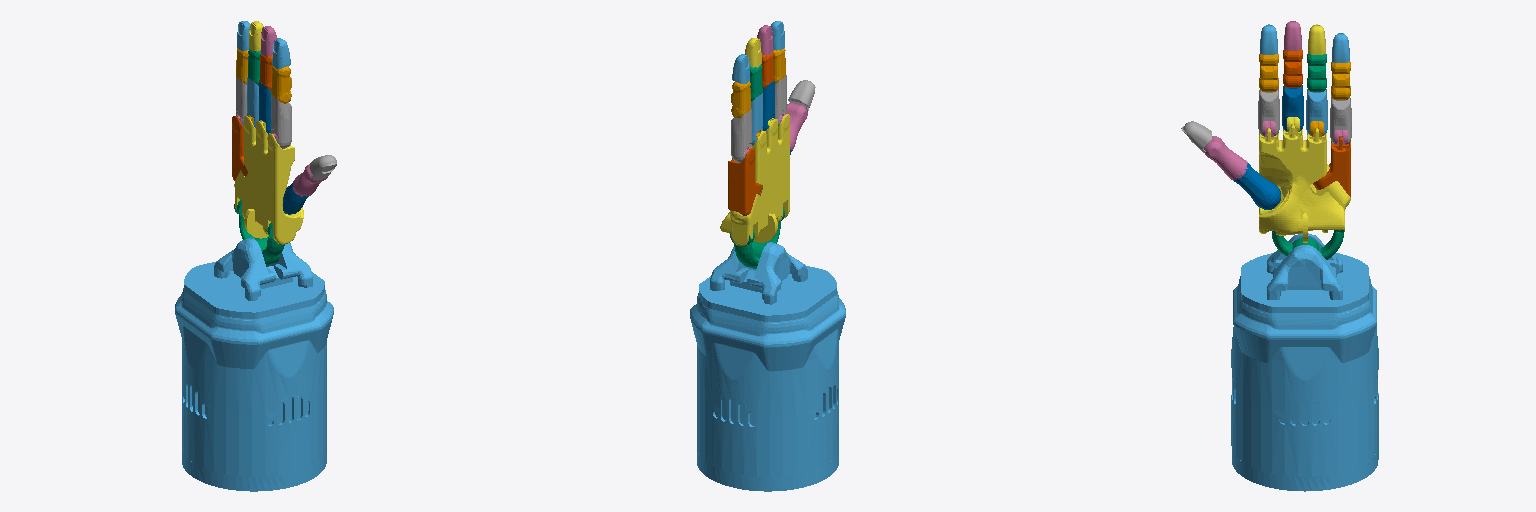
--- What the picture shows (computed from the rendered views, not written in the file) ---
3 views of the same robot in one strip: view 1: azimuth 30°, elevation 25°; view 2: azimuth 150°, elevation 25°; view 3: azimuth 270°, elevation 25° (orthographic).
Model shadow_left with 33 links and 32 joints (24 revolute, 8 fixed), rooted at world, posed all joints at 0.
Links seen in each view (by area): view 1: forearm, palm, ffproximal, wrist, lfmetacarpal, ffmiddle; view 2: forearm, palm, lfmetacarpal, lfproximal, wrist, lfmiddle, thmiddle; view 3: forearm, palm, lfmetacarpal, thproximal, thmiddle, wrist, mfproximal, lfproximal, ffproximal, rfproximal, mfmiddle, rfmiddle (+3 smaller).
Boxes of the visible links, x1,y1,x2,y2 form: forearm: (175, 238, 333, 491); palm: (234, 116, 303, 244); ffproximal: (271, 95, 291, 148); wrist: (234, 199, 284, 264); lfmetacarpal: (232, 116, 247, 180); ffmiddle: (271, 66, 291, 103); forearm: (690, 242, 845, 491); palm: (720, 114, 789, 245); lfmetacarpal: (728, 147, 762, 215); lfproximal: (731, 109, 751, 162); wrist: (730, 207, 784, 268); lfmiddle: (731, 81, 750, 117); thmiddle: (786, 103, 807, 150); forearm: (1231, 233, 1378, 491); palm: (1259, 124, 1350, 242); lfmetacarpal: (1313, 137, 1350, 196); thproximal: (1231, 163, 1280, 209); thmiddle: (1204, 136, 1247, 180); wrist: (1272, 230, 1343, 259); mfproximal: (1282, 85, 1303, 131); lfproximal: (1330, 97, 1351, 143); ffproximal: (1258, 88, 1279, 135); rfproximal: (1306, 89, 1327, 134); mfmiddle: (1283, 50, 1302, 87); rfmiddle: (1307, 54, 1326, 91).
Size in the robot's own frame: 0.1351 by 0.1809 by 0.4479 metres.
23 mesh visuals loaded from 11 distinct referenced files (11 OBJ).

The robot description file, URDF, robot "shadow_left":
<?xml version="1.0" encoding="utf-8"?>
<!--
 Software License Agreement (BSD License)
 Copyright © 2022 belongs to Shadow Robot Company Ltd.
 All rights reserved.
 Redistribution and use in source and binary forms, with or without modification,
 are permitted provided that the following conditions are met:
   1. Redistributions of source code must retain the above copyright notice,
      this list of conditions and the following disclaimer.
   2. Redistributions in binary form must reproduce the above copyright notice,
      this list of conditions and the following disclaimer in the documentation
      and/or other materials provided with the distribution.
   3. Neither the name of Shadow Robot Company Ltd nor the names of its contributors
      may be used to endorse or promote products derived from this software without
      specific prior written permission.
 This software is provided by Shadow Robot Company Ltd "as is" and any express
 or implied warranties, including, but not limited to, the implied warranties of
 merchantability and fitness for a particular purpose are disclaimed. In no event
 shall the copyright holder be liable for any direct, indirect, incidental, special,
 exemplary, or consequential damages (including, but not limited to, procurement of
 substitute goods or services; loss of use, data, or profits; or business interruption)
 however caused and on any theory of liability, whether in contract, strict liability,
 or tort (including negligence or otherwise) arising in any way out of the use of this
 software, even if advised of the possibility of such damage.
-->
<robot name="shadow_left">
  <link name="world"/>
  <joint name="world_joint" type="fixed">
    <parent link="world"/>
    <child link="forearm"/>
    <origin rpy="0.0 0.0 1.57079" xyz="0.0 0.0 0.0"/>
  </joint>
  <link name="forearm">
    <inertial>
      <origin rpy="0 0 0" xyz="0 0 0.09"/>
      <mass value="3.0"/>
      <inertia ixx="0.0138" ixy="0.0" ixz="0.0" iyy="0.0138" iyz="0.0" izz="0.00744"/>
    </inertial>
    <visual>
      <origin rpy="0 0 0" xyz="0 0 0.0"/>
      <geometry name="forearm_visual">
        <mesh filename="meshes/visual/forearm_E3M5.obj" scale="0.001 0.001 0.001"/>
      </geometry>
    </visual>
    <collision>
      <origin rpy="0 0 0" xyz="0 0 0.0"/>
      <geometry name="forearm_collision">
        <mesh filename="meshes/collision/forearm_E3M5.obj" scale="0.001 0.001 0.001"/>
      </geometry>
    </collision>
    <!-- wrist mount -->
    <collision>
      <origin rpy="0 0.785395 0" xyz="0 -0.01 0.165"/>
      <geometry>
        <box size="0.07 0.07 0.07"/>
      </geometry>
    </collision>
  </link>
  <link name="wrist">
    <inertial>
      <origin rpy="0 0 0" xyz="0 0 0.029"/>
      <mass value="0.1"/>
      <inertia ixx="0.000035" ixy="0.0" ixz="0.0" iyy="0.000064" iyz="0.0" izz="0.0000438"/>
    </inertial>
    <visual>
      <origin rpy="0 0 0" xyz="0 0 0"/>
      <geometry name="wrist_visual">
        <mesh filename="meshes/visual/wrist_E3M5.obj" scale="0.001 0.001 0.001"/>
      </geometry>
    </visual>
    <collision>
      <origin rpy="1.5708 1.5708 0" xyz="0 0 0"/>
      <geometry name="wrist_collision_geom">
        <cylinder length="0.030" radius="0.0135"/>
      </geometry>
    </collision>
    <collision>
      <origin rpy="0 1.5708 0" xyz="0.026 0 0.034"/>
      <geometry>
        <cylinder length="0.010" radius="0.011"/>
      </geometry>
    </collision>
    <collision>
      <origin rpy="0 1.5708 0" xyz="-0.031 0 0.034"/>
      <geometry>
        <cylinder length="0.010" radius="0.011"/>
      </geometry>
    </collision>
    <collision>
      <origin rpy="0 -0.7854 0" xyz="0.021 0 0.011"/>
      <geometry>
        <box size="0.027 0.018 0.010"/>
      </geometry>
    </collision>
    <collision>
      <origin rpy="0 0.7854 0" xyz="-0.026 0 0.010"/>
      <geometry>
        <box size="0.027 0.018 0.010"/>
      </geometry>
    </collision>
  </link>
  <joint name="WRJ2" type="revolute">
    <parent link="forearm"/>
    <child link="wrist"/>
    <origin rpy="0 0 0" xyz="0 -0.010 0.21301"/>
    <axis xyz="0 -1 0"/>
    <limit effort="10" lower="-0.523598775598" upper="0.174532925199" velocity="2.0"/>
    <dynamics damping="0.1"/>
  </joint>
  <link name="palm">
    <inertial>
      <origin rpy="0 0 0" xyz="0 0 0.035"/>
      <mass value="0.3"/>
      <inertia ixx="0.0003581" ixy="0.0" ixz="0.0" iyy="0.0005287" iyz="0.0" izz="0.000191"/>
    </inertial>
    <visual>
      <origin rpy="0 0 0" xyz="0 0 0"/>
      <geometry name="palm_visual">
        <mesh filename="meshes/visual/palm_E3M5_left.obj" scale="0.001 0.001 0.001"/>
      </geometry>
    </visual>
    <collision>
      <origin rpy="0 0 0" xyz="-0.011 0.0085 0.042"/>
      <geometry name="palm_collision_geom">
        <box size="0.062 0.007 0.090"/>
      </geometry>
    </collision>
    <collision>
      <origin rpy="0 0 0" xyz="0.002 -0.0035 0.042"/>
      <geometry>
        <box size="0.036 0.017 0.090"/>
      </geometry>
    </collision>
    <!-- palm complement below first finger -->
    <collision>
      <origin rpy="0 0 0" xyz="-0.029 -0.0035 0.082"/>
      <geometry>
        <box size="0.026 0.017 0.010"/>
      </geometry>
    </collision>
    <collision>
      <origin rpy="0.2 0 -0.25" xyz="-0.0265 -0.001 0.070"/>
      <geometry>
        <box size="0.026 0.014 0.018"/>
      </geometry>
    </collision>
    <!-- thumb pulp side -->
    <collision>
      <origin rpy="0 0 0" xyz="-0.0315 -0.0085 0.001"/>
      <geometry>
        <box size="0.021 0.027 0.016"/>
      </geometry>
    </collision>
    <!-- thumb pulp central -->
    <collision>
      <origin rpy="0 0 0.48" xyz="-0.0125 -0.015 0.009"/>
      <geometry>
        <box size="0.022 0.005 0.032"/>
      </geometry>
    </collision>
    <!-- above middle finger-->
    <collision>
      <origin rpy="0 0 0" xyz="-0.011 0 0.089"/>
      <geometry>
        <box size="0.018 0.024 0.004"/>
      </geometry>
    </collision>
    <!-- metacarpal side-->
    <collision>
      <origin rpy="0 0 0" xyz="0.03 0 0.009"/>
      <geometry>
        <box size="0.020 0.024 0.032"/>
      </geometry>
    </collision>
  </link>
  <joint name="ee_fixed_joint" type="fixed">
    <parent link="palm"/>
    <child link="ee_link"/>
    <origin rpy="0.0 0.0 0.0" xyz="0.0 0.0 0.00"/>
  </joint>
  <link name="ee_link"/>
  <joint name="WRJ1" type="revolute">
    <parent link="wrist"/>
    <child link="palm"/>
    <origin rpy="0 0 0" xyz="0 0 0.034"/>
    <axis xyz="1 0 0"/>
    <limit effort="30" lower="-0.698131700798" upper="0.488692190558" velocity="2.0"/>
    <dynamics damping="0.1"/>
  </joint>
  <link name="imu"/>
  <joint name="palm_to_imu" type="fixed">
    <parent link="palm"/>
    <child link="imu"/>
    <origin rpy="-1.5707963 3.141592 0.0" xyz="0.01785 0.00765 0.049125"/>
  </joint>
  <link name="ffknuckle">
    <inertial>
      <origin rpy="0 0 0" xyz="0 0 0"/>
      <mass value="0.008"/>
      <inertia ixx="0.00000026" ixy="0.0" ixz="0.0" iyy="0.00000026" iyz="0.0" izz="0.00000032"/>
    </inertial>
    <visual>
      <origin rpy="0 0 0" xyz="0 0 0.0005"/>
      <geometry name="ffknuckle_visual">
        <mesh filename="meshes/visual/f_knuckle_E3M5.obj" scale="0.001 0.001 0.001"/>
      </geometry>
    </visual>
    <collision>
      <origin rpy="0 1.5708 0" xyz="0 0 0"/>
      <geometry name="lh_ffknuckle_collision_geom">
        <mesh filename="meshes/collision/f_knuckle_E3M5.obj"/>
      </geometry>
    </collision>
  </link>
  <joint name="FFJ4" type="revolute">
    <parent link="palm"/>
    <child link="ffknuckle"/>
    <origin rpy="0 0 0" xyz="-0.033 0 0.095"/>
    <axis xyz="0 1 0"/>
    <limit effort="2" lower="-0.349065850399" upper="0.349065850399" velocity="2.0"/>
    <dynamics damping="0.1"/>
  </joint>
  <link name="ffproximal">
    <inertial>
      <mass value="0.030"/>
      <origin xyz="0 0 0.0225"/>
      <inertia ixx="0.0000098" ixy="0.0" ixz="0.0" iyy="0.00001" iyz="0.0" izz="0.0000018"/>
    </inertial>
    <visual>
      <origin rpy="0 0 0" xyz="0 0 0"/>
      <geometry name="ffproximal_visual">
        <mesh filename="meshes/visual/f_proximal_E3M5.obj" scale="0.001 0.001 0.001"/>
      </geometry>
    </visual>
    <collision>
      <origin rpy="0 0 0" xyz="0 0 0.025"/>
      <geometry name="ffproximal_collision_geom">
        <cylinder length="0.040" radius="0.007"/>
      </geometry>
    </collision>
  </link>
  <joint name="FFJ3" type="revolute">
    <parent link="ffknuckle"/>
    <child link="ffproximal"/>
    <origin rpy="0 0 0" xyz="0 0 0"/>
    <axis xyz="1 0 0"/>
    <limit effort="2" lower="-0.261799387799" upper="1.57079632679" velocity="2.0"/>
    <dynamics damping="0.1"/>
  </joint>
  <link name="ffmiddle">
    <inertial>
      <origin rpy="0 0 0" xyz="0 0 0.0125"/>
      <mass value="0.017"/>
      <inertia ixx="0.0000026" ixy="0.0" ixz="0.0" iyy="0.0000027" iyz="0.0" izz="0.00000087"/>
    </inertial>
    <visual>
      <origin rpy="0 0 0" xyz="0 0 0"/>
      <geometry name="ffmiddle_visual">
        <mesh filename="meshes/visual/f_middle_E3M5.obj" scale="0.001 0.001 0.001"/>
      </geometry>
    </visual>
    <collision>
      <origin rpy="0 0 0" xyz="0 0 0.0125"/>
      <geometry name="ffmiddle_collision_geom">
        <cylinder length="0.025" radius="0.007"/>
      </geometry>
    </collision>
    <collision>
      <origin rpy="0 0 0" xyz="0 0 0.0"/>
      <geometry>
        <sphere radius="0.007"/>
      </geometry>
    </collision>
    <collision>
      <origin rpy="0 0 0" xyz="0 0 0.025"/>
      <geometry>
        <sphere radius="0.007"/>
      </geometry>
    </collision>
  </link>
  <joint name="FFJ2" type="revolute">
    <parent link="ffproximal"/>
    <child link="ffmiddle"/>
    <origin rpy="0 0 0" xyz="0 0 0.045"/>
    <axis xyz="1 0 0"/>
    <limit effort="2" lower="0" upper="1.57079632679" velocity="2.0"/>
    <dynamics damping="0.1"/>
  </joint>
  <link name="ffdistal">
    <!--    inertial and mass is enlarged by 10 times to fix the position drive issue in Physx simulation, used in IsaacGym and SAPIEN-->
    <inertial>
      <mass value="0.12"/>
      <origin xyz="0 0 0.012"/>
      <inertia ixx="0.0000094" ixy="0.0" ixz="0.0" iyy="0.000011" iyz="0.0" izz="0.0000053"/>
    </inertial>
    <visual>
      <origin rpy="0 0 0" xyz="0 0 0"/>
      <geometry name="ffdistal_visual">
        <mesh filename="meshes/visual/f_distal_pst.obj" scale="0.001 0.001 0.001"/>
      </geometry>
    </visual>
    <collision>
      <origin rpy="0 0 0" xyz="0 0 0"/>
      <geometry name="ffdistal_collision_geom">
        <mesh filename="meshes/collision/f_distal_pst.obj" scale="0.001 0.001 0.001"/>
      </geometry>
    </collision>
  </link>
  <joint name="FFJ1" type="revolute">
    <parent link="ffmiddle"/>
    <child link="ffdistal"/>
    <origin rpy="0 0 0" xyz="0 0 0.025"/>
    <axis xyz="1 0 0"/>
    <!-- standard distal joint -->
    <limit effort="2" lower="0" upper="1.57079632679" velocity="2.0"/>
    <dynamics damping="0.1"/>
  </joint>
  <link name="fftip">
    <inertial>
      <mass value="0.001"/>
      <inertia ixx="0.0" ixy="0.0" ixz="0.0" iyy="0.0" iyz="0.0" izz="0.0"/>
    </inertial>
  </link>
  <joint name="FFtip" type="fixed">
    <parent link="ffdistal"/>
    <child link="fftip"/>
    <origin rpy="0 0 0" xyz="0 0 0.026"/>
  </joint>
  <link name="mfknuckle">
    <inertial>
      <origin rpy="0 0 0" xyz="0 0 0"/>
      <mass value="0.008"/>
      <inertia ixx="0.00000026" ixy="0.0" ixz="0.0" iyy="0.00000026" iyz="0.0" izz="0.00000032"/>
    </inertial>
    <visual>
      <origin rpy="0 0 0" xyz="0 0 0.0005"/>
      <geometry name="mfknuckle_visual">
        <mesh filename="meshes/visual/f_knuckle_E3M5.obj" scale="0.001 0.001 0.001"/>
      </geometry>
    </visual>
    <collision>
      <geometry name="ffknuckle_visual">
        <mesh filename="meshes/collision/f_knuckle_E3M5.obj"/>
      </geometry>
    </collision>
  </link>
  <joint name="MFJ4" type="revolute">
    <parent link="palm"/>
    <child link="mfknuckle"/>
    <!--<origin xyz="0.033 0 0.095" rpy="0 0 0" />-->
    <origin rpy="0 0 0" xyz="-0.011 0 0.099"/>
    <axis xyz="0 1 0"/>
    <limit effort="2" lower="-0.349065850399" upper="0.349065850399" velocity="2.0"/>
    <dynamics damping="0.1"/>
  </joint>
  <link name="mfproximal">
    <inertial>
      <mass value="0.030"/>
      <origin xyz="0 0 0.0225"/>
      <inertia ixx="0.0000098" ixy="0.0" ixz="0.0" iyy="0.00001" iyz="0.0" izz="0.0000018"/>
    </inertial>
    <visual>
      <origin rpy="0 0 0" xyz="0 0 0"/>
      <geometry name="mfproximal_visual">
        <mesh filename="meshes/visual/f_proximal_E3M5.obj" scale="0.001 0.001 0.001"/>
      </geometry>
    </visual>
    <collision>
      <origin rpy="0 0 0" xyz="0 0 0.025"/>
      <geometry name="mfproximal_collision_geom">
        <cylinder length="0.040" radius="0.007"/>
      </geometry>
    </collision>
  </link>
  <joint name="MFJ3" type="revolute">
    <parent link="mfknuckle"/>
    <child link="mfproximal"/>
    <origin rpy="0 0 0" xyz="0 0 0"/>
    <axis xyz="1 0 0"/>
    <limit effort="2" lower="-0.261799387799" upper="1.57079632679" velocity="2.0"/>
    <dynamics damping="0.1"/>
  </joint>
  <link name="mfmiddle">
    <inertial>
      <origin rpy="0 0 0" xyz="0 0 0.0125"/>
      <mass value="0.017"/>
      <inertia ixx="0.0000026" ixy="0.0" ixz="0.0" iyy="0.0000027" iyz="0.0" izz="0.00000087"/>
    </inertial>
    <visual>
      <origin rpy="0 0 0" xyz="0 0 0"/>
      <geometry name="mfmiddle_visual">
        <mesh filename="meshes/visual/f_middle_E3M5.obj" scale="0.001 0.001 0.001"/>
      </geometry>
    </visual>
    <collision>
      <origin rpy="0 0 0" xyz="0 0 0.0125"/>
      <geometry name="mfmiddle_collision_geom">
        <cylinder length="0.025" radius="0.007"/>
      </geometry>
    </collision>
    <collision>
      <origin rpy="0 0 0" xyz="0 0 0.0"/>
      <geometry>
        <sphere radius="0.007"/>
      </geometry>
    </collision>
    <collision>
      <origin rpy="0 0 0" xyz="0 0 0.025"/>
      <geometry>
        <sphere radius="0.007"/>
      </geometry>
    </collision>
  </link>
  <joint name="MFJ2" type="revolute">
    <parent link="mfproximal"/>
    <child link="mfmiddle"/>
    <origin rpy="0 0 0" xyz="0 0 0.045"/>
    <axis xyz="1 0 0"/>
    <limit effort="2" lower="0" upper="1.57079632679" velocity="2.0"/>
    <dynamics damping="0.1"/>
  </joint>
  <link name="mfdistal">
    <!--    inertial and mass is enlarged by 10 times to fix the position drive issue in Physx simulation, used in IsaacGym and SAPIEN-->
    <inertial>
      <mass value="0.12"/>
      <origin xyz="0 0 0.012"/>
      <inertia ixx="0.0000094" ixy="0.0" ixz="0.0" iyy="0.000011" iyz="0.0" izz="0.0000053"/>
    </inertial>
    <visual>
      <origin rpy="0 0 0" xyz="0 0 0"/>
      <geometry name="mfdistal_visual">
        <mesh filename="meshes/visual/f_distal_pst.obj" scale="0.001 0.001 0.001"/>
      </geometry>
    </visual>
    <collision>
      <origin rpy="0 0 0" xyz="0 0 0"/>
      <geometry name="mfdistal_collision_geom">
        <mesh filename="meshes/collision/f_distal_pst.obj" scale="0.001 0.001 0.001"/>
      </geometry>
    </collision>
  </link>
  <joint name="MFJ1" type="revolute">
    <parent link="mfmiddle"/>
    <child link="mfdistal"/>
    <origin rpy="0 0 0" xyz="0 0 0.025"/>
    <axis xyz="1 0 0"/>
    <!-- standard distal joint -->
    <limit effort="2" lower="0" upper="1.57079632679" velocity="2.0"/>
    <dynamics damping="0.1"/>
  </joint>
  <link name="mftip">
    <inertial>
      <mass value="0.001"/>
      <inertia ixx="0.0" ixy="0.0" ixz="0.0" iyy="0.0" iyz="0.0" izz="0.0"/>
    </inertial>
  </link>
  <joint name="MFtip" type="fixed">
    <parent link="mfdistal"/>
    <child link="mftip"/>
    <origin rpy="0 0 0" xyz="0 0 0.026"/>
  </joint>
  <link name="rfknuckle">
    <inertial>
      <origin rpy="0 0 0" xyz="0 0 0"/>
      <mass value="0.008"/>
      <inertia ixx="0.00000026" ixy="0.0" ixz="0.0" iyy="0.00000026" iyz="0.0" izz="0.00000032"/>
    </inertial>
    <visual>
      <origin rpy="0 0 0" xyz="0 0 0.0005"/>
      <geometry name="rfknuckle_visual">
        <mesh filename="meshes/visual/f_knuckle_E3M5.obj" scale="0.001 0.001 0.001"/>
      </geometry>
    </visual>
    <collision>
      <geometry name="ffknuckle_visual">
        <mesh filename="meshes/collision/f_knuckle_E3M5.obj"/>
      </geometry>
    </collision>
  </link>
  <joint name="RFJ4" type="revolute">
    <parent link="palm"/>
    <child link="rfknuckle"/>
    <!--<origin xyz="0.033 0 0.095" rpy="0 0 0" />-->
    <origin rpy="0 0 0" xyz="0.011 0 0.095"/>
    <axis xyz="0 -1 0"/>
    <limit effort="2" lower="-0.349065850399" upper="0.349065850399" velocity="2.0"/>
    <dynamics damping="0.1"/>
  </joint>
  <link name="rfproximal">
    <inertial>
      <mass value="0.030"/>
      <origin xyz="0 0 0.0225"/>
      <inertia ixx="0.0000098" ixy="0.0" ixz="0.0" iyy="0.00001" iyz="0.0" izz="0.0000018"/>
    </inertial>
    <visual>
      <origin rpy="0 0 0" xyz="0 0 0"/>
      <geometry name="rfproximal_visual">
        <mesh filename="meshes/visual/f_proximal_E3M5.obj" scale="0.001 0.001 0.001"/>
      </geometry>
    </visual>
    <collision>
      <origin rpy="0 0 0" xyz="0 0 0.025"/>
      <geometry name="rfproximal_collision_geom">
        <cylinder length="0.040" radius="0.007"/>
      </geometry>
    </collision>
  </link>
  <joint name="RFJ3" type="revolute">
    <parent link="rfknuckle"/>
    <child link="rfproximal"/>
    <origin rpy="0 0 0" xyz="0 0 0"/>
    <axis xyz="1 0 0"/>
    <limit effort="2" lower="-0.261799387799" upper="1.57079632679" velocity="2.0"/>
    <dynamics damping="0.1"/>
  </joint>
  <link name="rfmiddle">
    <inertial>
      <origin rpy="0 0 0" xyz="0 0 0.0125"/>
      <mass value="0.017"/>
      <inertia ixx="0.0000026" ixy="0.0" ixz="0.0" iyy="0.0000027" iyz="0.0" izz="0.00000087"/>
    </inertial>
    <visual>
      <origin rpy="0 0 0" xyz="0 0 0"/>
      <geometry name="rfmiddle_visual">
        <mesh filename="meshes/visual/f_middle_E3M5.obj" scale="0.001 0.001 0.001"/>
      </geometry>
    </visual>
    <collision>
      <origin rpy="0 0 0" xyz="0 0 0.0125"/>
      <geometry name="rfmiddle_collision_geom">
        <cylinder length="0.025" radius="0.007"/>
      </geometry>
    </collision>
    <collision>
      <origin rpy="0 0 0" xyz="0 0 0.0"/>
      <geometry>
        <sphere radius="0.007"/>
      </geometry>
    </collision>
    <collision>
      <origin rpy="0 0 0" xyz="0 0 0.025"/>
      <geometry>
        <sphere radius="0.007"/>
      </geometry>
    </collision>
  </link>
  <joint name="RFJ2" type="revolute">
    <parent link="rfproximal"/>
    <child link="rfmiddle"/>
    <origin rpy="0 0 0" xyz="0 0 0.045"/>
    <axis xyz="1 0 0"/>
    <limit effort="2" lower="0" upper="1.57079632679" velocity="2.0"/>
    <dynamics damping="0.1"/>
  </joint>
  <link name="rfdistal">
    <!--    inertial and mass is enlarged by 10 times to fix the position drive issue in Physx simulation, used in IsaacGym and SAPIEN-->
    <inertial>
      <mass value="0.12"/>
      <origin xyz="0 0 0.012"/>
      <inertia ixx="0.0000094" ixy="0.0" ixz="0.0" iyy="0.000011" iyz="0.0" izz="0.0000053"/>
    </inertial>
    <visual>
      <origin rpy="0 0 0" xyz="0 0 0"/>
      <geometry name="rfdistal_visual">
        <mesh filename="meshes/visual/f_distal_pst.obj" scale="0.001 0.001 0.001"/>
      </geometry>
    </visual>
    <collision>
      <origin rpy="0 0 0" xyz="0 0 0"/>
      <geometry name="rfdistal_collision_geom">
        <mesh filename="meshes/collision/f_distal_pst.obj" scale="0.001 0.001 0.001"/>
      </geometry>
    </collision>
  </link>
  <joint name="RFJ1" type="revolute">
    <parent link="rfmiddle"/>
    <child link="rfdistal"/>
    <origin rpy="0 0 0" xyz="0 0 0.025"/>
    <axis xyz="1 0 0"/>
    <!-- standard distal joint -->
    <limit effort="2" lower="0" upper="1.57079632679" velocity="2.0"/>
    <dynamics damping="0.1"/>
  </joint>
  <link name="rftip">
    <inertial>
      <mass value="0.001"/>
      <inertia ixx="0.0" ixy="0.0" ixz="0.0" iyy="0.0" iyz="0.0" izz="0.0"/>
    </inertial>
  </link>
  <joint name="RFtip" type="fixed">
    <parent link="rfdistal"/>
    <child link="rftip"/>
    <origin rpy="0 0 0" xyz="0 0 0.026"/>
  </joint>
  <link name="lfmetacarpal">
    <inertial>
      <origin rpy="0 0.9599 0" xyz="0.0317486764706 0 0.0223529411765"/>
      <mass value="0.030"/>
      <inertia ixx="0.0000145" ixy="0.0" ixz="0.0" iyy="0.00001638" iyz="0.0" izz="0.000004272"/>
    </inertial>
    <visual>
      <origin rpy="0 -0.9599 0" xyz="0 0 0"/>
      <geometry name="lfmetacarpal_visual">
        <mesh filename="meshes/visual/lf_metacarpal_E3M5_left.obj" scale="0.001 0.001 0.001"/>
      </geometry>
    </visual>
    <collision>
      <origin rpy="0 -0.9599 0" xyz="-0.026986375 0 0.019"/>
      <geometry name="lfmetacarpal_collision_geom">
        <box size="0.018 0.024 0.040"/>
      </geometry>
    </collision>
  </link>
  <joint name="LFJ5" type="revolute">
    <parent link="palm"/>
    <child link="lfmetacarpal"/>
    <origin rpy="0 0.9599 0" xyz="0.033 0 0.02071"/>
    <axis xyz="1 0 0"/>
    <limit effort="2" lower="0" upper="0.785398163397" velocity="2.0"/>
    <dynamics damping="0.1"/>
  </joint>
  <link name="lfknuckle">
    <inertial>
      <origin rpy="0 0 0" xyz="0 0 0"/>
      <mass value="0.008"/>
      <inertia ixx="0.00000026" ixy="0.0" ixz="0.0" iyy="0.00000026" iyz="0.0" izz="0.00000032"/>
    </inertial>
    <visual>
      <origin rpy="0 0 0" xyz="0 0 0.0005"/>
      <geometry name="lfknuckle_visual">
        <mesh filename="meshes/visual/f_knuckle_E3M5.obj" scale="0.001 0.001 0.001"/>
      </geometry>
    </visual>
    <collision>
      <geometry name="ffknuckle_visual">
        <mesh filename="meshes/collision/f_knuckle_E3M5.obj"/>
      </geometry>
    </collision>
  </link>
  <joint name="LFJ4" type="revolute">
    <parent link="lfmetacarpal"/>
    <child link="lfknuckle"/>
    <!--<origin xyz="0.033 0 0.095" rpy="0 0 0" />-->
    <origin rpy="0 -0.9599 0" xyz="-0.05397275 0 0.03779463"/>
    <axis xyz="0 -1 0"/>
    <limit effort="2" lower="-0.349065850399" upper="0.349065850399" velocity="2.0"/>
    <dynamics damping="0.1"/>
  </joint>
  <link name="lfproximal">
    <inertial>
      <mass value="0.030"/>
      <origin xyz="0 0 0.0225"/>
      <inertia ixx="0.0000098" ixy="0.0" ixz="0.0" iyy="0.00001" iyz="0.0" izz="0.0000018"/>
    </inertial>
    <visual>
      <origin rpy="0 0 0" xyz="0 0 0"/>
      <geometry name="lfproximal_visual">
        <mesh filename="meshes/visual/f_proximal_E3M5.obj" scale="0.001 0.001 0.001"/>
      </geometry>
    </visual>
    <collision>
      <origin rpy="0 0 0" xyz="0 0 0.025"/>
      <geometry name="lfproximal_collision_geom">
        <cylinder length="0.040" radius="0.007"/>
      </geometry>
    </collision>
  </link>
  <joint name="LFJ3" type="revolute">
    <parent link="lfknuckle"/>
    <child link="lfproximal"/>
    <origin rpy="0 0 0" xyz="0 0 0"/>
    <axis xyz="1 0 0"/>
    <limit effort="2" lower="-0.261799387799" upper="1.57079632679" velocity="2.0"/>
    <dynamics damping="0.1"/>
  </joint>
  <link name="lfmiddle">
    <inertial>
      <origin rpy="0 0 0" xyz="0 0 0.0125"/>
      <mass value="0.017"/>
      <inertia ixx="0.0000026" ixy="0.0" ixz="0.0" iyy="0.0000027" iyz="0.0" izz="0.00000087"/>
    </inertial>
    <visual>
      <origin rpy="0 0 0" xyz="0 0 0"/>
      <geometry name="lfmiddle_visual">
        <mesh filename="meshes/visual/f_middle_E3M5.obj" scale="0.001 0.001 0.001"/>
      </geometry>
    </visual>
    <collision>
      <origin rpy="0 0 0" xyz="0 0 0.0125"/>
      <geometry name="lfmiddle_collision_geom">
        <cylinder length="0.025" radius="0.007"/>
      </geometry>
    </collision>
    <collision>
      <origin rpy="0 0 0" xyz="0 0 0.0"/>
      <geometry>
        <sphere radius="0.007"/>
      </geometry>
    </collision>
    <collision>
      <origin rpy="0 0 0" xyz="0 0 0.025"/>
      <geometry>
        <sphere radius="0.007"/>
      </geometry>
    </collision>
  </link>
  <joint name="LFJ2" type="revolute">
    <parent link="lfproximal"/>
    <child link="lfmiddle"/>
    <origin rpy="0 0 0" xyz="0 0 0.045"/>
    <axis xyz="1 0 0"/>
    <limit effort="2" lower="0" upper="1.57079632679" velocity="2.0"/>
    <dynamics damping="0.1"/>
  </joint>
  <link name="lfdistal">
    <!--    inertial and mass is enlarged by 10 times to fix the position drive issue in Physx simulation, used in IsaacGym and SAPIEN-->
    <inertial>
      <mass value="0.12"/>
      <origin xyz="0 0 0.012"/>
      <inertia ixx="0.0000094" ixy="0.0" ixz="0.0" iyy="0.000011" iyz="0.0" izz="0.0000053"/>
    </inertial>
    <visual>
      <origin rpy="0 0 0" xyz="0 0 0"/>
      <geometry name="lfdistal_visual">
        <mesh filename="meshes/visual/f_distal_pst.obj" scale="0.001 0.001 0.001"/>
      </geometry>
    </visual>
    <collision>
      <origin rpy="0 0 0" xyz="0 0 0"/>
      <geometry name="lfdistal_collision_geom">
        <mesh filename="meshes/visual/f_distal_pst.obj" scale="0.001 0.001 0.001"/>
      </geometry>
    </collision>
  </link>
  <joint name="LFJ1" type="revolute">
    <parent link="lfmiddle"/>
    <child link="lfdistal"/>
    <origin rpy="0 0 0" xyz="0 0 0.025"/>
    <axis xyz="1 0 0"/>
    <!-- standard distal joint -->
    <limit effort="2" lower="0" upper="1.57079632679" velocity="2.0"/>
    <dynamics damping="0.1"/>
  </joint>
  <link name="lftip">
    <inertial>
      <mass value="0.001"/>
      <inertia ixx="0.0" ixy="0.0" ixz="0.0" iyy="0.0" iyz="0.0" izz="0.0"/>
    </inertial>
  </link>
  <joint name="LFtip" type="fixed">
    <parent link="lfdistal"/>
    <child link="lftip"/>
    <origin rpy="0 0 0" xyz="0 0 0.026"/>
  </joint>
  <link name="thbase">
    <inertial>
      <mass value="0.010"/>
      <origin rpy="0 0 0" xyz="0 0 0"/>
      <inertia ixx="0.00000016" ixy="0.0" ixz="0.0" iyy="0.00000016" iyz="0.0" izz="0.00000016"/>
    </inertial>
    <visual>
      <origin rpy="0 0 0" xyz="0 0 0"/>
      <geometry name="thbase_visual">
        <box size="0.001 0.001 0.001"/>
      </geometry>
    </visual>
    <collision>
      <origin rpy="0 0 0" xyz="0 0 0"/>
      <geometry name="thbase_collision_geom">
        <sphere radius="0.011"/>
      </geometry>
    </collision>
  </link>
  <joint name="THJ5" type="revolute">
    <parent link="palm"/>
    <child link="thbase"/>
    <origin rpy="-0.785398163397 0 1.57079632679" xyz="-0.034 -0.00858 0.029"/>
    <axis xyz="0 0 1"/>
    <limit effort="5.0" lower="-1.0471975512" upper="1.0471975512" velocity="4.0"/>
    <dynamics damping="0.2"/>
  </joint>
  <link name="thproximal">
    <inertial>
      <mass value="0.040"/>
      <origin rpy="0 0 0" xyz="0 0 0.019"/>
      <inertia ixx="0.0000136" ixy="0.0" ixz="0.0" iyy="0.0000136" iyz="0.0" izz="0.00000313"/>
    </inertial>
    <visual>
      <origin rpy="0 0 1.57079632679" xyz="0 0 0"/>
      <geometry name="thproximal_visual">
        <mesh filename="meshes/visual/th_proximal_E3M5.obj" scale="0.001 0.001 0.001"/>
      </geometry>
    </visual>
    <collision>
      <origin rpy="0 0 1.57079632679" xyz="0 0 0"/>
      <geometry name="thproximal_collision">
        <mesh filename="meshes/collision/th_proximal_E3M5.obj" scale="0.001 0.001 0.001"/>
      </geometry>
    </collision>
  </link>
  <joint name="THJ4" type="revolute">
    <parent link="thbase"/>
    <child link="thproximal"/>
    <origin rpy="0 0 0" xyz="0 0 0"/>
    <axis xyz="0 -1 0"/>
    <limit effort="3" lower="0.0" upper="1.2217304764" velocity="4.0"/>
    <dynamics damping="0.2"/>
  </joint>
  <link name="thhub">
    <inertial>
      <mass value="0.005"/>
      <origin rpy="0 0 0" xyz="0 0 0"/>
      <inertia ixx="0.000001" ixy="0.0" ixz="0.0" iyy="0.000001" iyz="0.0" izz="0.0000003"/>
    </inertial>
    <collision>
      <origin rpy="0 0 0" xyz="0 0 0"/>
      <geometry name="thhub_collision_geom">
        <sphere radius="0.010"/>
      </geometry>
    </collision>
  </link>
  <joint name="THJ3" type="revolute">
    <parent link="thproximal"/>
    <child link="thhub"/>
    <origin rpy="0 0 0" xyz="0 0 0.038"/>
    <axis xyz="0 -1 0"/>
    <limit effort="2.0" lower="-0.209439510239" upper="0.209439510239" velocity="4.0"/>
    <dynamics damping="0.2"/>
  </joint>
  <link name="thmiddle">
    <inertial>
      <mass value="0.020"/>
      <origin rpy="0 0 0" xyz="0 0 0.016"/>
      <inertia ixx="0.0000051" ixy="0.0" ixz="0.0" iyy="0.0000051" iyz="0.0" izz="0.00000121"/>
    </inertial>
    <visual>
      <origin rpy="0 0 1.57079632679" xyz="0 0 0"/>
      <geometry name="thmiddle_visual">
        <mesh filename="meshes/visual/th_middle_E3M5.obj" scale="0.001 0.001 0.001"/>
      </geometry>
    </visual>
    <collision>
      <geometry name="thmiddle_collision">
        <mesh filename="meshes/collision/th_middle_E3M5.obj" scale="0.001 0.001 0.001"/>
      </geometry>
    </collision>
  </link>
  <joint name="THJ2" type="revolute">
    <parent link="thhub"/>
    <child link="thmiddle"/>
    <origin rpy="0 0 0" xyz="0 0 0"/>
    <axis xyz="1 0 0"/>
    <limit effort="2.0" lower="-0.698131700798" upper="0.698131700798" velocity="2.0"/>
    <dynamics damping="0.1"/>
  </joint>
  <!-- common -->
  <link name="thdistal">
    <!--    inertial and mass is enlarged by 10 times to fix the position drive issue in Physx simulation, used in IsaacGym and SAPIEN-->
    <inertial>
      <mass value="0.16"/>
      <origin rpy="0 0 0" xyz="0 0 0.01375"/>
      <inertia ixx="0.000021" ixy="0.0" ixz="0.0" iyy="0.000022" iyz="0.0" izz="0.00001"/>
    </inertial>
    <visual>
      <origin rpy="0 0 0" xyz="0 0 0"/>
      <geometry name="thdistal_visual">
        <mesh filename="meshes/visual/th_distal_pst.obj" scale="0.001 0.001 0.001"/>
      </geometry>
    </visual>
    <collision>
      <origin rpy="0 0 0" xyz="0 0 0"/>
      <geometry name="thmiddle_collision_geom">
        <mesh filename="meshes/visual/th_distal_pst.obj" scale="0.001 0.001 0.001"/>
      </geometry>
    </collision>
  </link>
  <joint name="THJ1" type="revolute">
    <parent link="thmiddle"/>
    <child link="thdistal"/>
    <origin rpy="0 0 0" xyz="0 0 0.032"/>
    <axis xyz="1 0 0"/>
    <limit effort="1.0" lower="-0.261799387799" upper="1.57079632679" velocity="4.0"/>
    <dynamics damping="0.2"/>
  </joint>
  <link name="thtip">
    <inertial>
      <mass value="0.001"/>
      <inertia ixx="0.0" ixy="0.0" ixz="0.0" iyy="0.0" iyz="0.0" izz="0.0"/>
    </inertial>
  </link>
  <joint name="thtip" type="fixed">
    <parent link="thdistal"/>
    <child link="thtip"/>
    <origin rpy="0 0 0" xyz="0 0 0.0275"/>
  </joint>
</robot>
